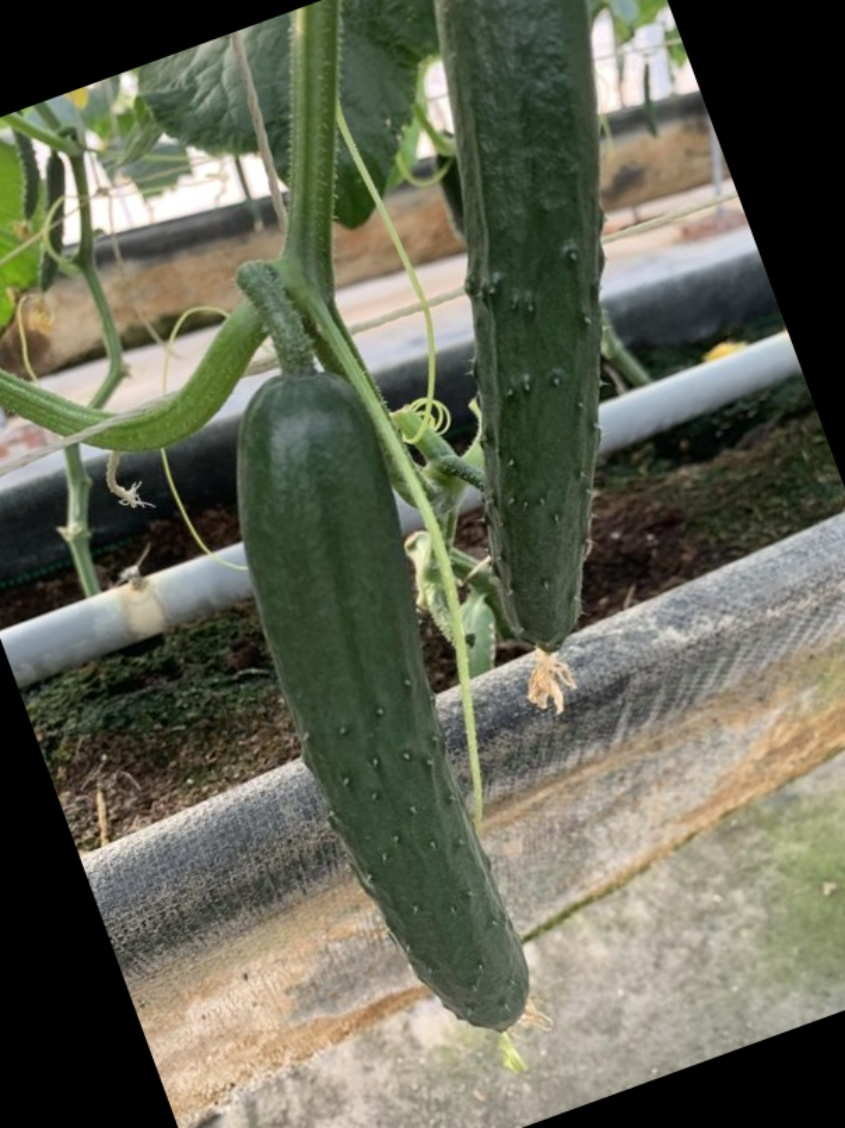mature: (426, 3, 604, 652)
